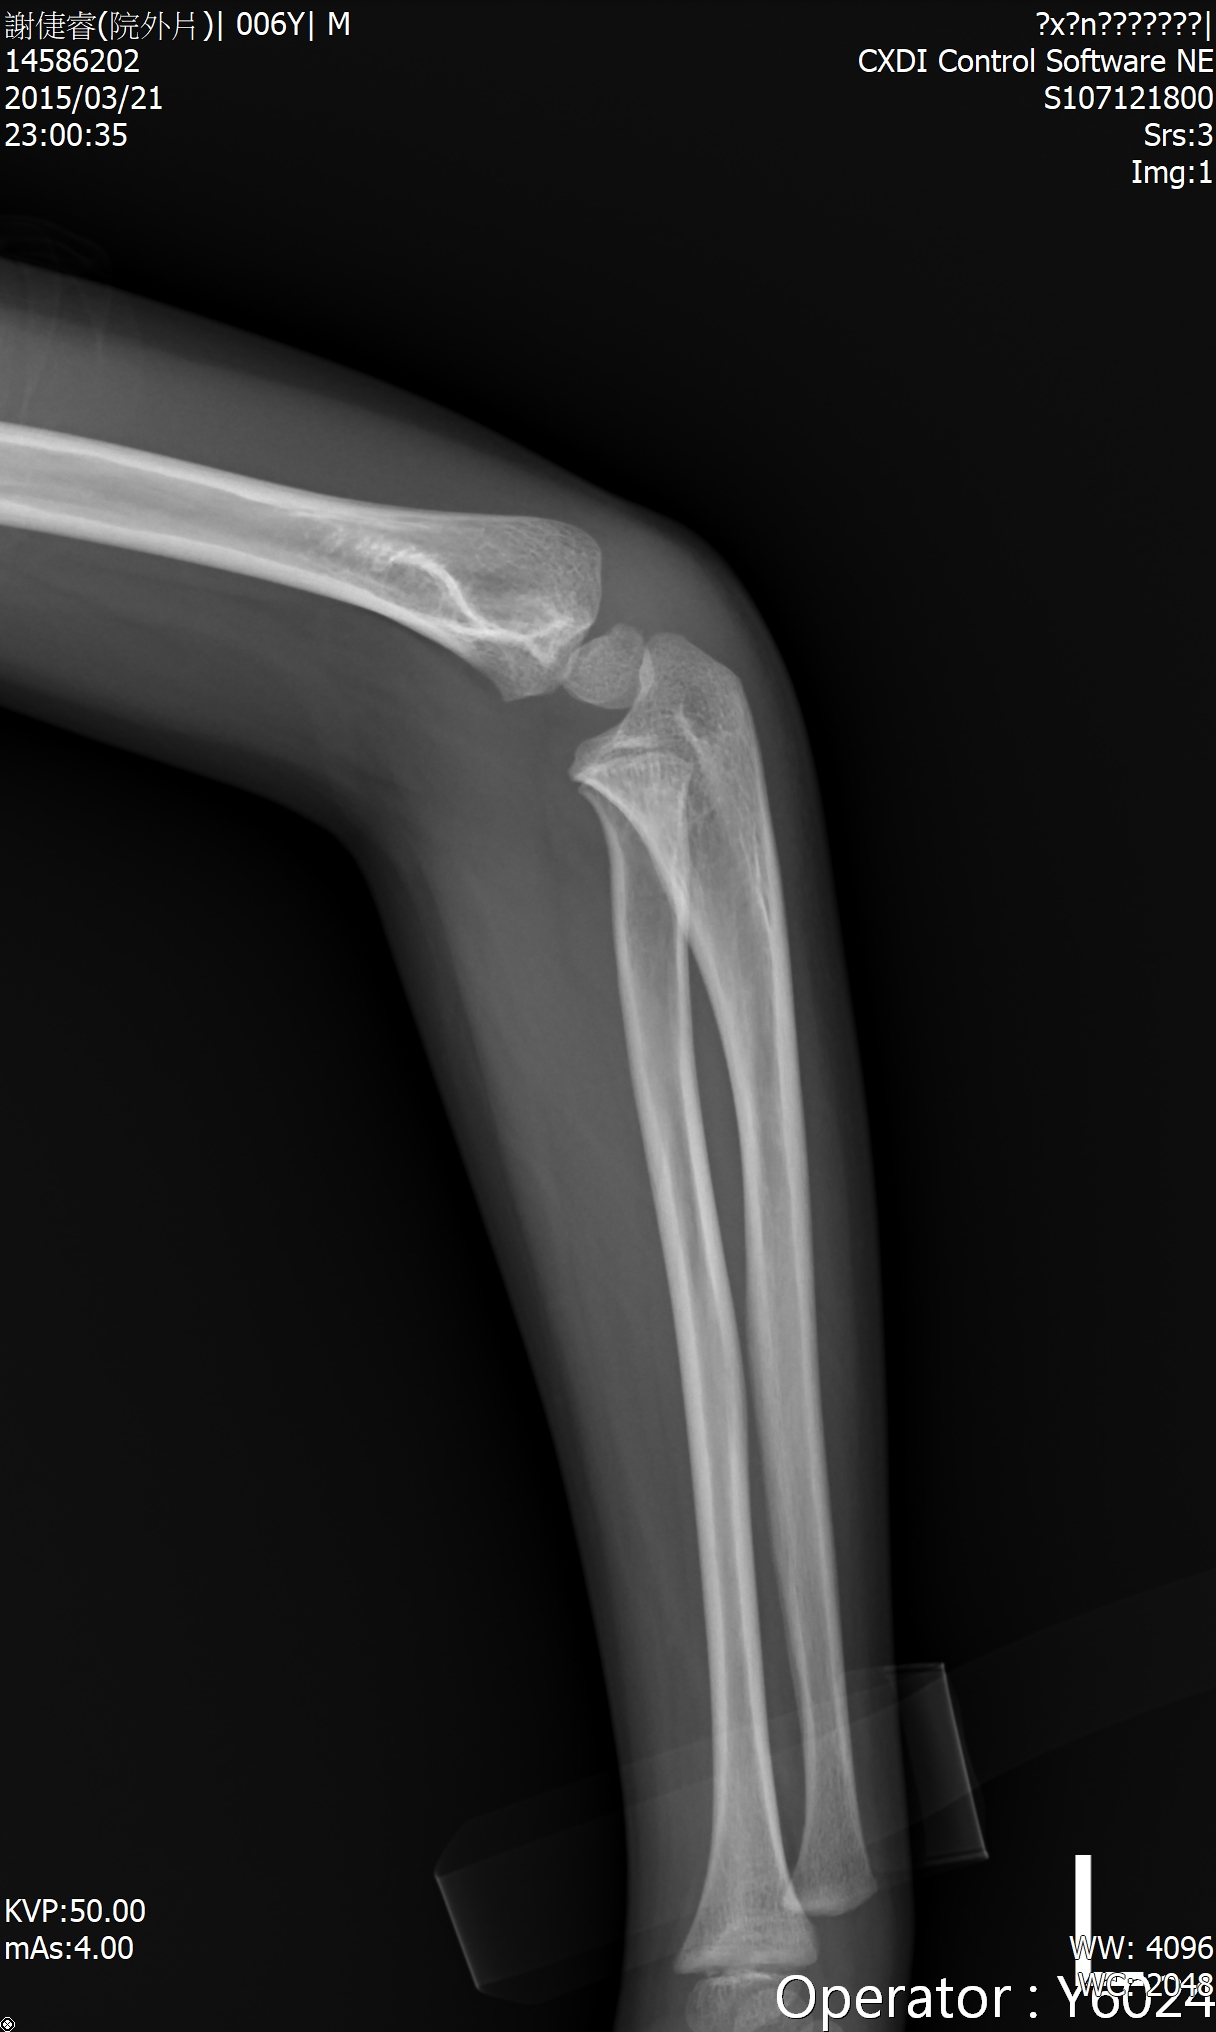Normal: (275, 402, 935, 1059)
